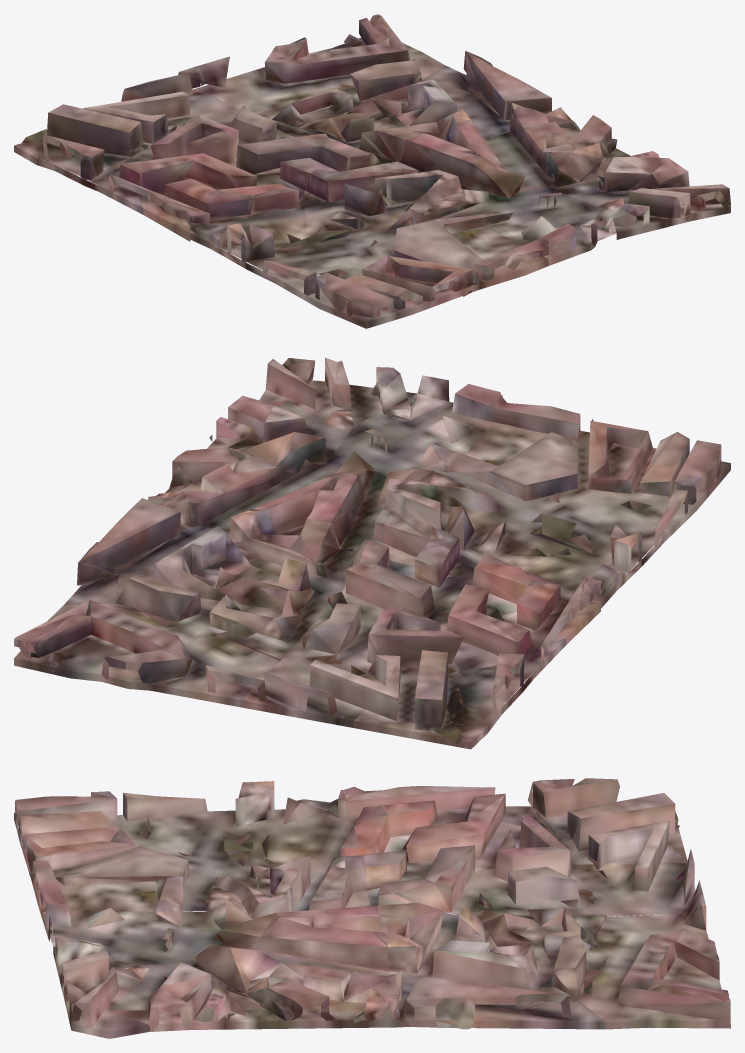
The picture shows the model from 3 angles, top to bottom: view 1: azimuth 30°, elevation 25°; view 2: azimuth 150°, elevation 25°; view 3: azimuth 270°, elevation 25°; orthographic projection. The views are drawn at different scales.
Visible parts, largest first — view 1: Mesh_0; view 2: Mesh_0; view 3: Mesh_0.
Boxes of the visible parts, <box> form: Mesh_0: <box>14,14,730,328</box>; Mesh_0: <box>14,357,730,749</box>; Mesh_0: <box>14,778,730,1038</box>.
Size of the model in its own units: 532 by 71.95 by 659.
2 materials, 2 textured.
